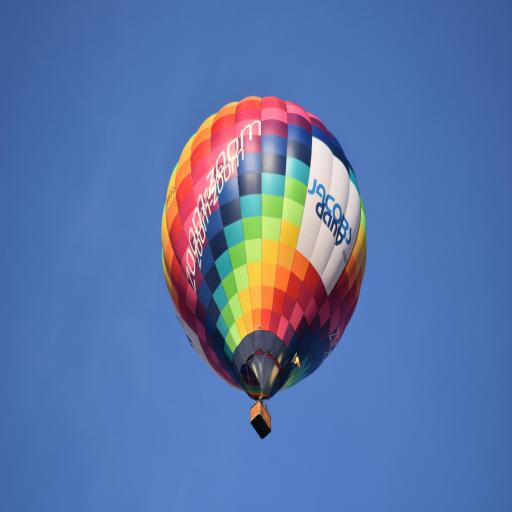hot air ballon: (160, 95, 368, 440)
